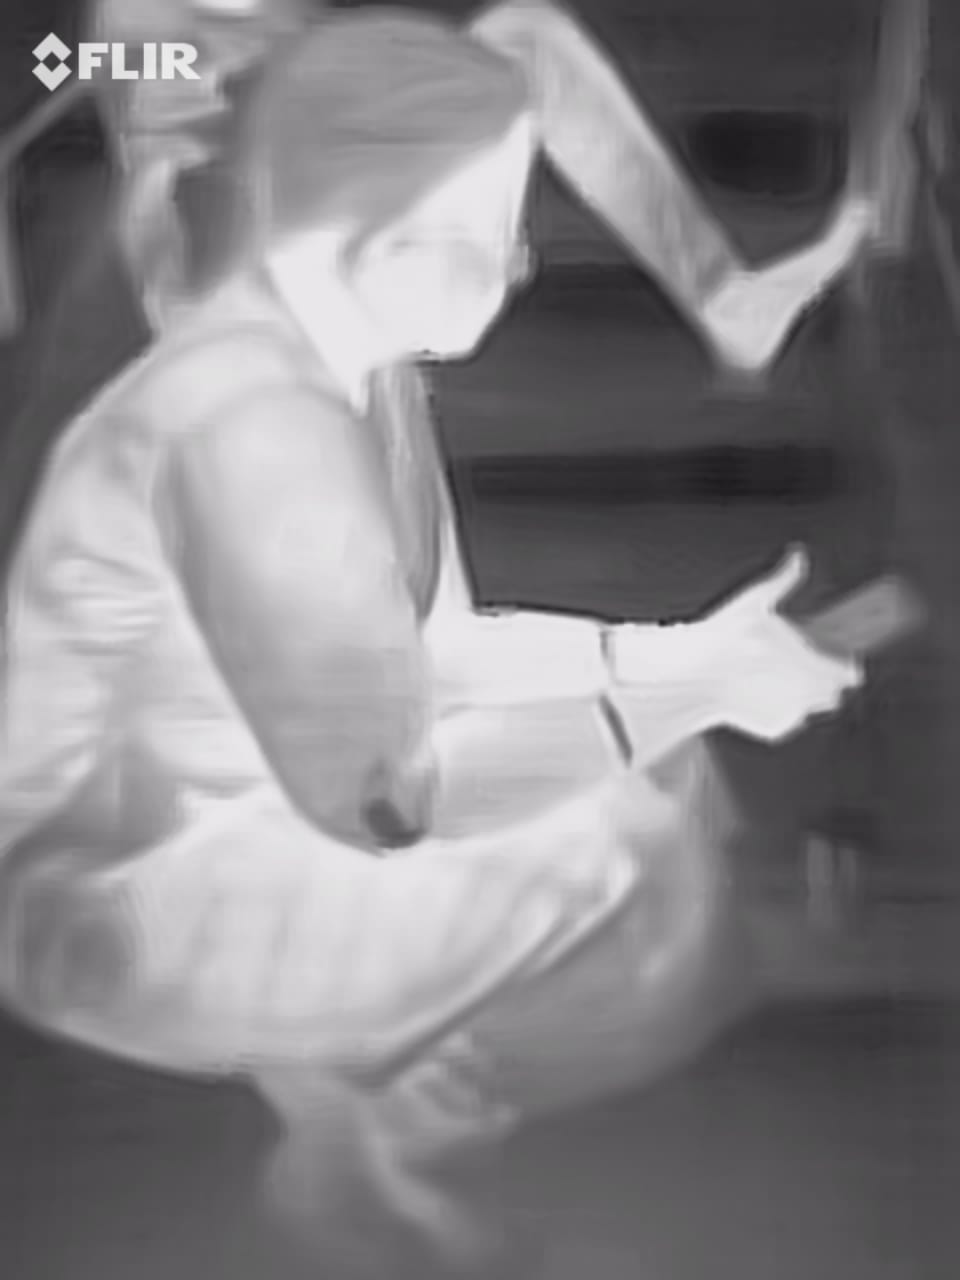head: (236, 22, 568, 385)
